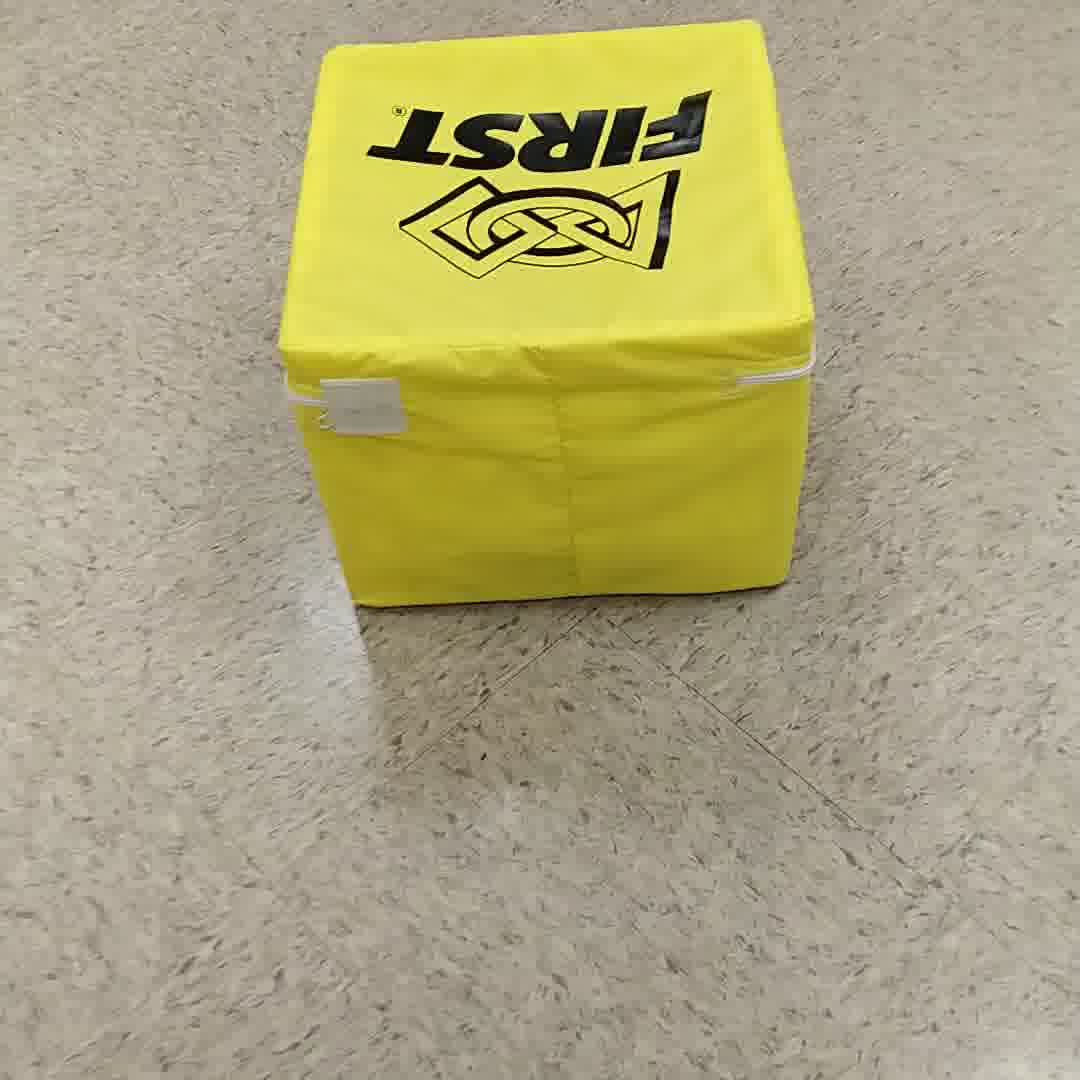box: (291, 36, 823, 620)
